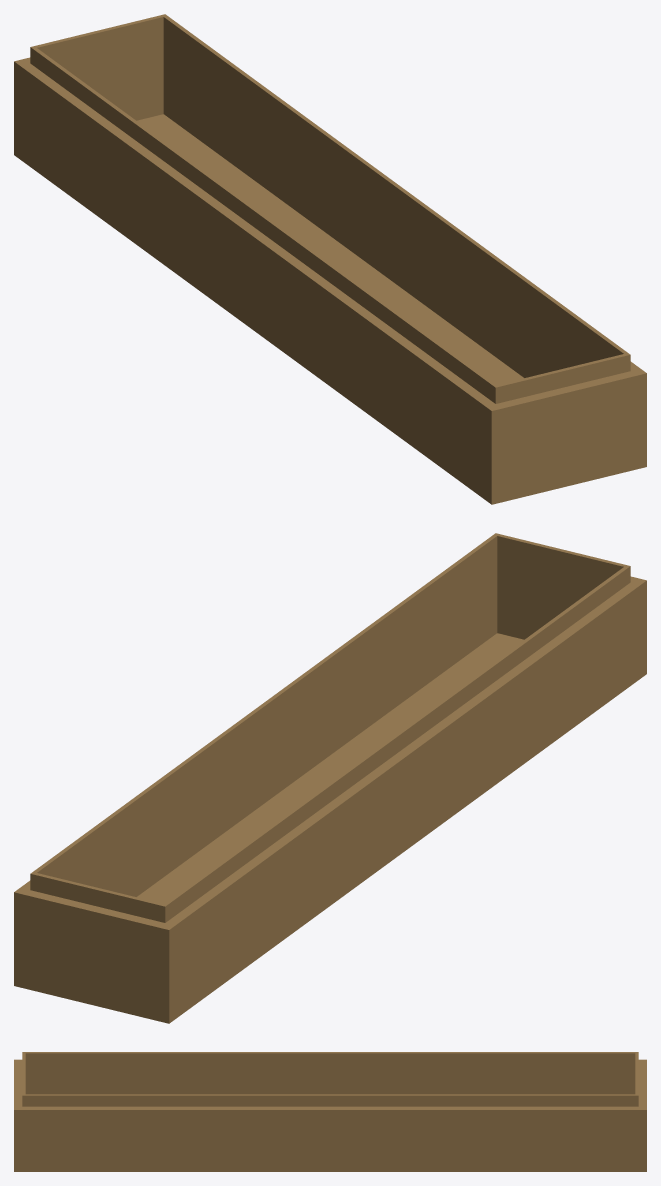
File: BoxOpenEmpty.fbx
The picture shows the model from 3 angles, top to bottom: view 1: azimuth 30°, elevation 25°; view 2: azimuth 150°, elevation 25°; view 3: azimuth 270°, elevation 25°; orthographic projection. The views are drawn at different scales.
Visible parts, largest first — view 1: Cube.009; view 2: Cube.009; view 3: Cube.009.
Boxes of the visible parts, box(x1,y1,x2,y2) form: Cube.009: box(14, 14, 646, 504); Cube.009: box(14, 533, 646, 1023); Cube.009: box(14, 1052, 646, 1171).
Size of the model in its own units: 6 by 4.07 by 32.
